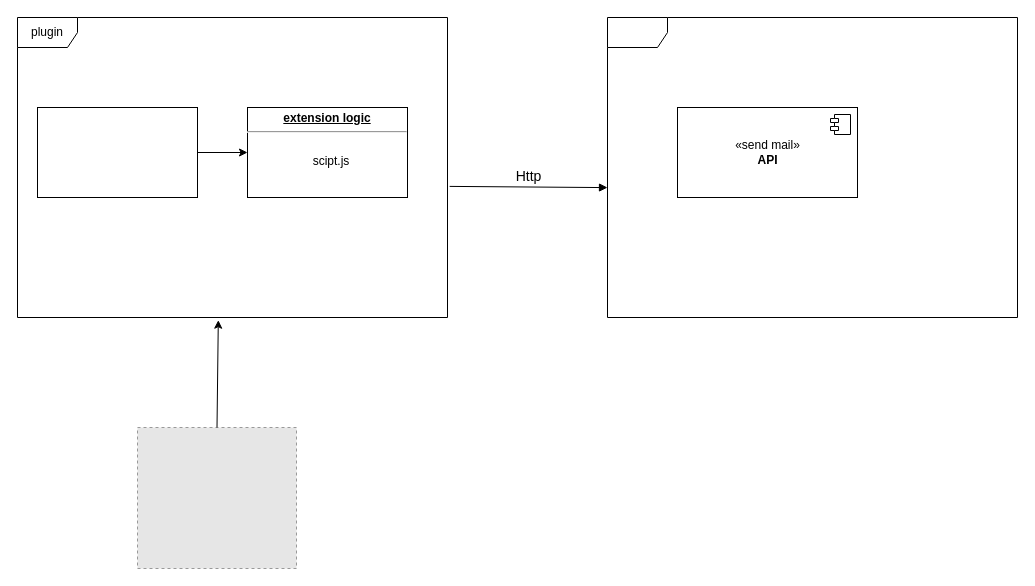
Image size: 1035x586. Some labels were removed from this diagram. Grey dashed boxes stand in for pictures. Each missing label, with the centre of its shape:
external service: the point at 812,167
Graphic interface Index.html: the point at 117,152
